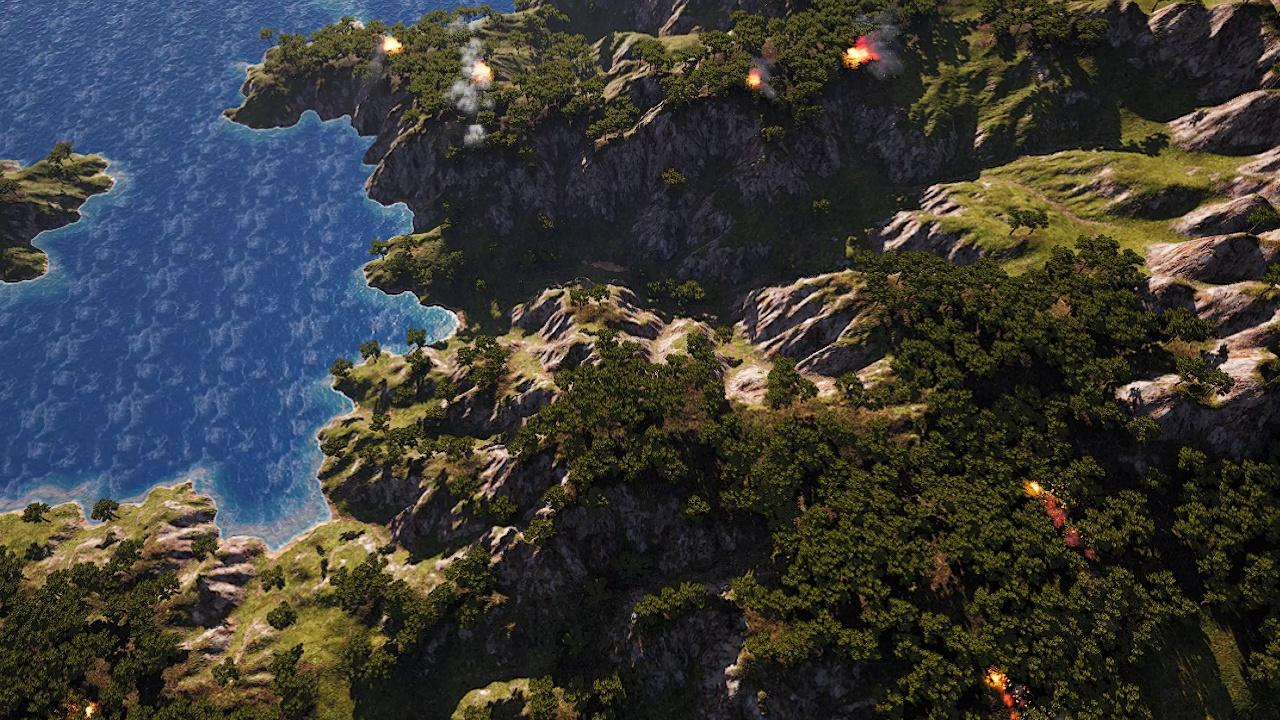fire: (1027, 478, 1079, 543), (983, 668, 1020, 711), (843, 43, 874, 67), (471, 60, 492, 80), (380, 37, 400, 54), (745, 68, 761, 89), (83, 703, 95, 720)
smoke: (446, 38, 496, 152)
